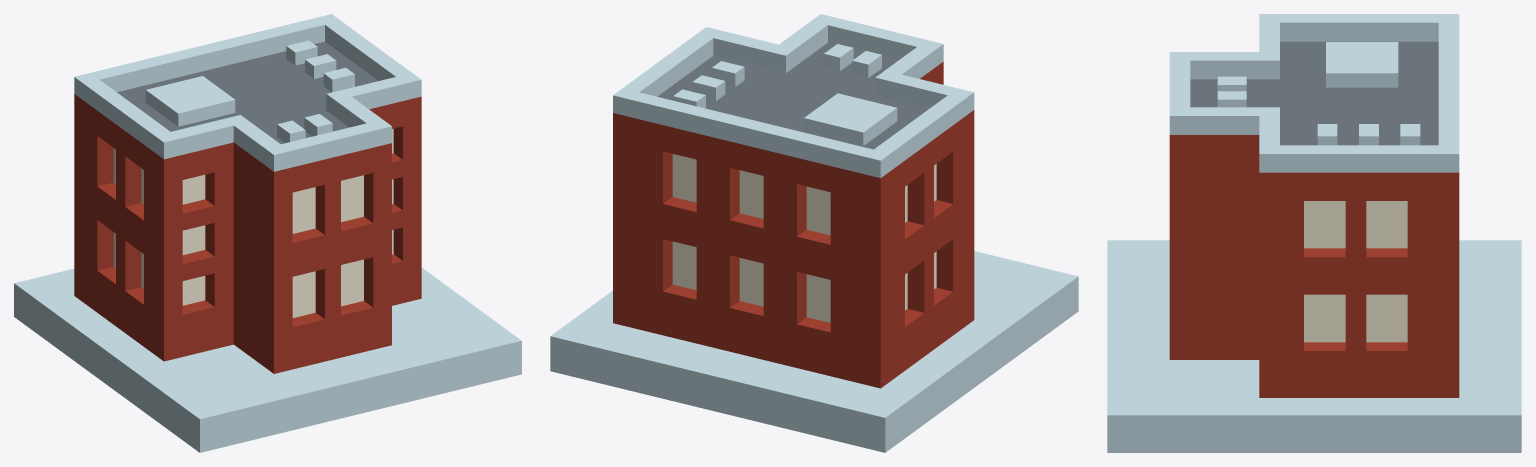
File: Building_12_Base_Extra (Red).obj
The picture shows the model from 3 angles, left to right: view 1: azimuth 30°, elevation 25°; view 2: azimuth 150°, elevation 25°; view 3: azimuth 270°, elevation 25°; orthographic projection. The views are drawn at different scales.
Parts seen in each view (by area): view 1: Building_12_Base_Extra_(Red); view 2: Building_12_Base_Extra_(Red); view 3: Building_12_Base_Extra_(Red).
Boxes of the visible parts, <box> form: Building_12_Base_Extra_(Red): <box>14,14,521,452</box>; Building_12_Base_Extra_(Red): <box>550,14,1078,452</box>; Building_12_Base_Extra_(Red): <box>1107,14,1521,452</box>.
Size of the model in its own units: 2 by 1.5 by 2.
